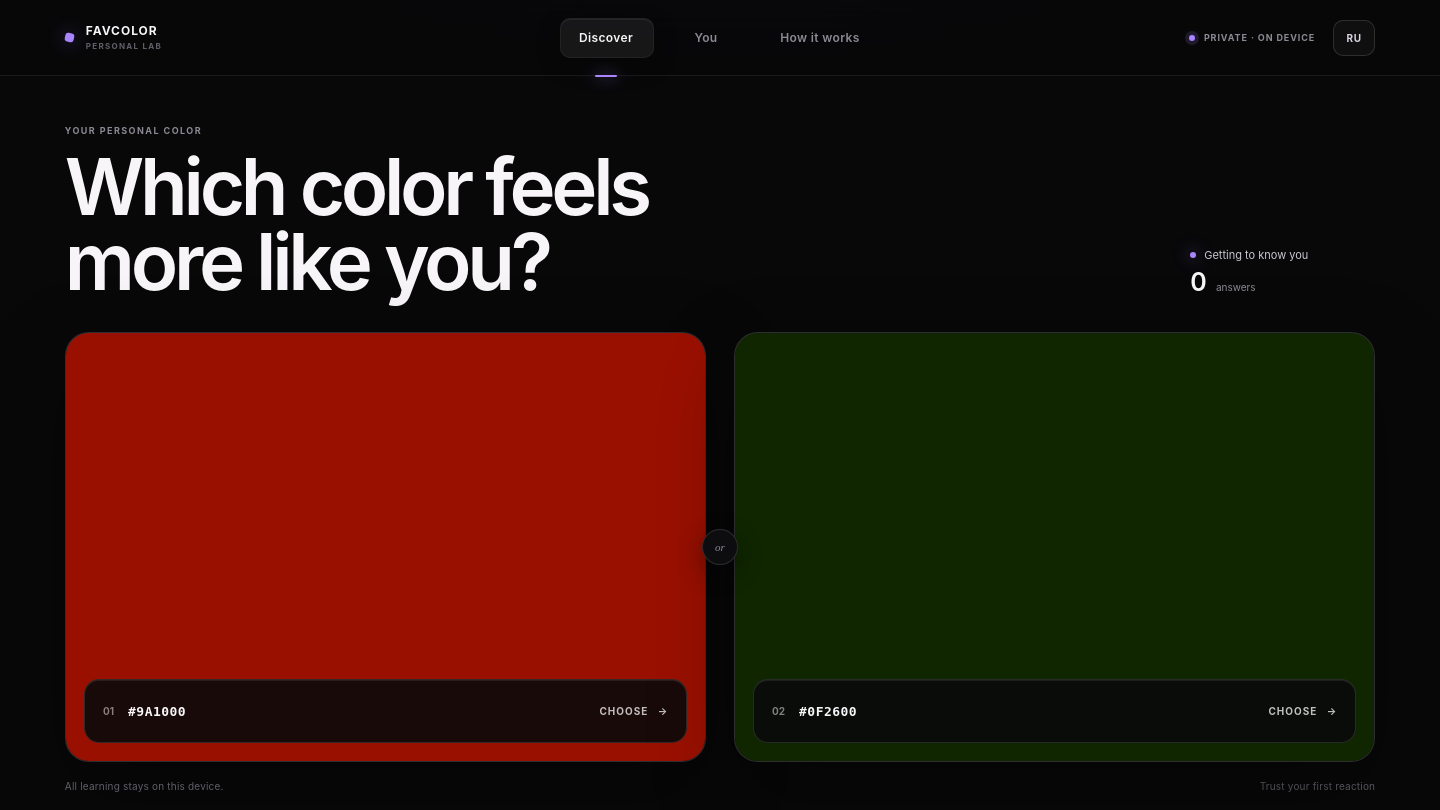
it: product flow › opens a separate methodology page with real results and honest boundaries
This screenshot has width=1440, height=810.
Click the tab "How it works" at (820, 38), box [760, 18, 880, 56]
(page scrolled)
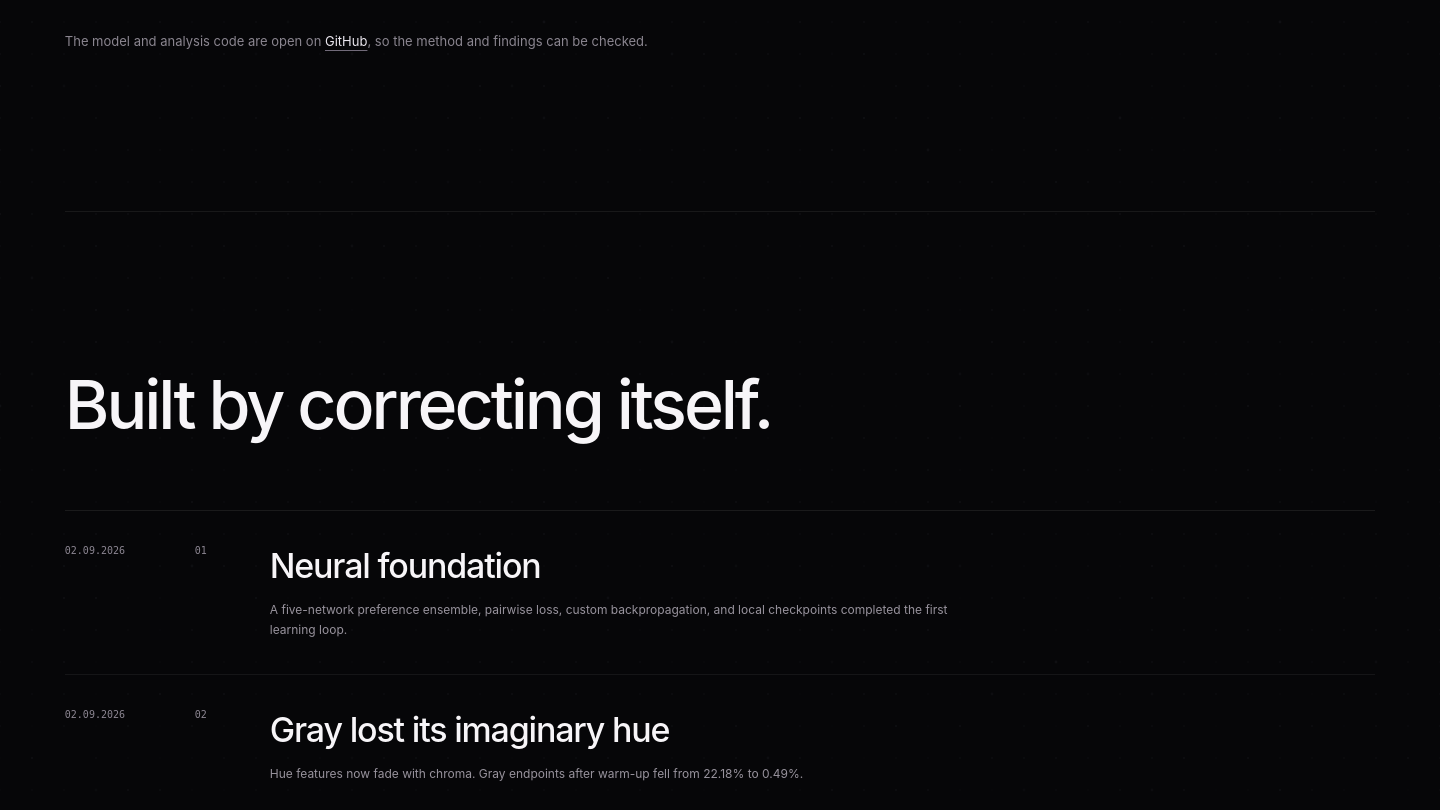
Expected: the heading named "development history" is shown, [65, 363, 771, 445]
